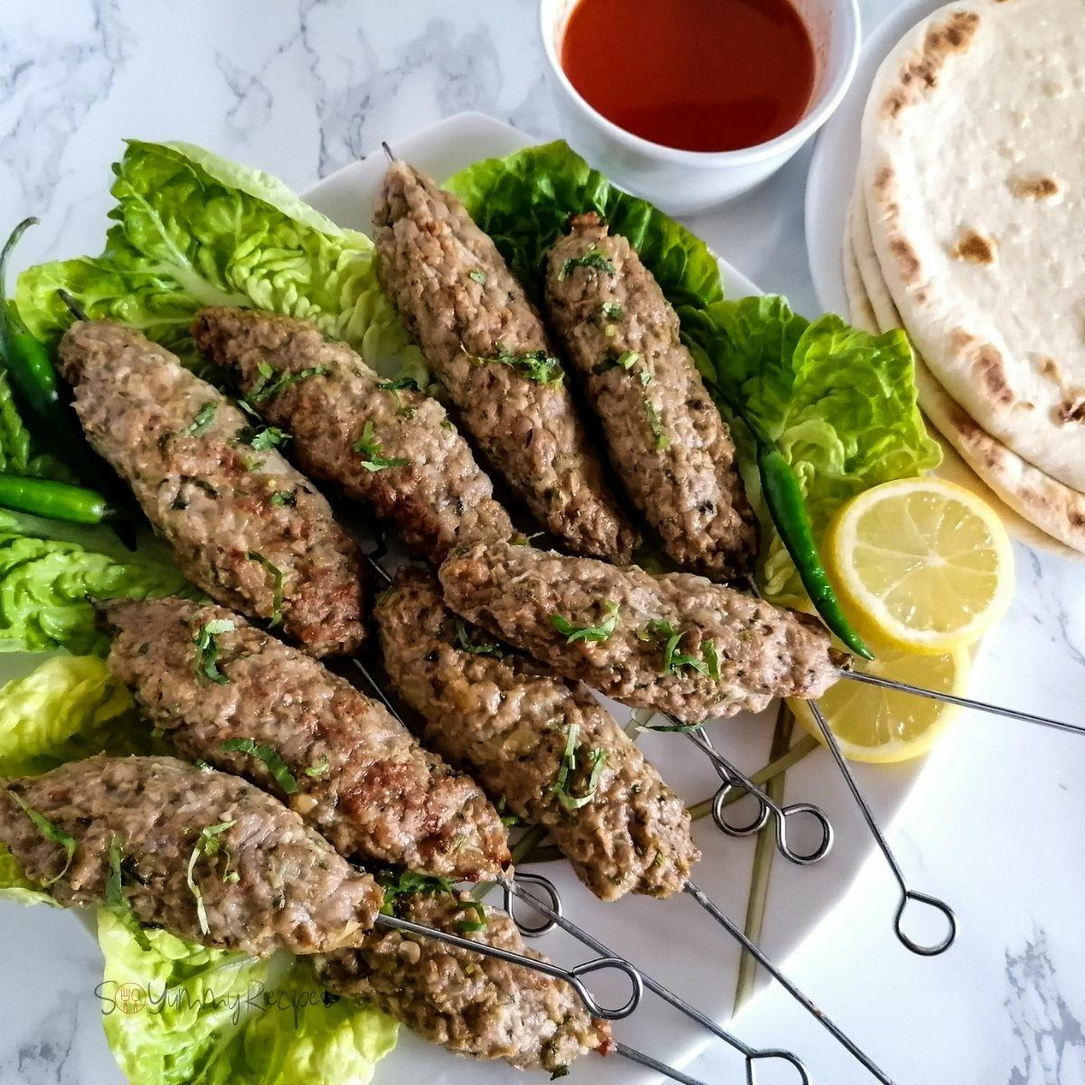Kebab: (108, 602, 511, 883), (60, 317, 367, 660), (377, 589, 701, 899), (378, 161, 627, 552), (542, 208, 763, 566), (202, 308, 526, 552), (3, 755, 390, 953), (442, 552, 860, 724), (310, 880, 616, 1069)
